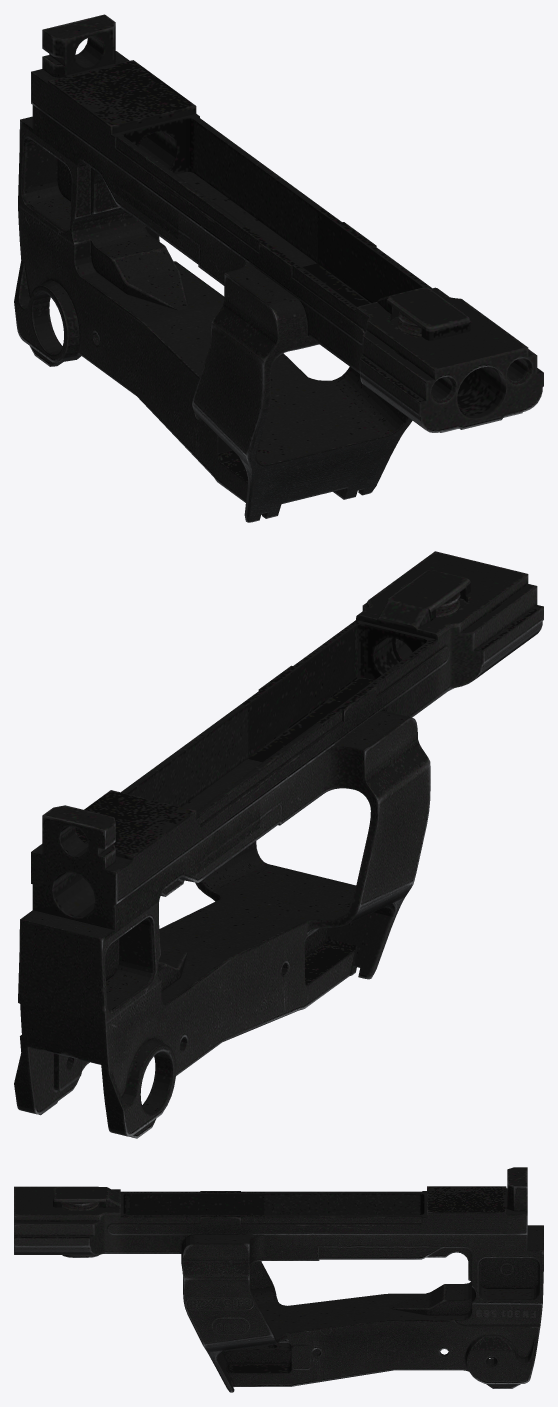
The picture shows the model from 3 angles, top to bottom: view 1: azimuth 30°, elevation 25°; view 2: azimuth 150°, elevation 25°; view 3: azimuth 270°, elevation 25°; orthographic projection. The views are drawn at different scales.
Parts seen in each view (by area): view 1: TW_5cf7acfcd7f00c1084477cf2_PZ_Import; view 2: TW_5cf7acfcd7f00c1084477cf2_PZ_Import; view 3: TW_5cf7acfcd7f00c1084477cf2_PZ_Import.
Boxes of the visible parts, x1,y1,x2,y2 form: TW_5cf7acfcd7f00c1084477cf2_PZ_Import: (14, 14, 543, 522); TW_5cf7acfcd7f00c1084477cf2_PZ_Import: (14, 551, 543, 1138); TW_5cf7acfcd7f00c1084477cf2_PZ_Import: (14, 1167, 543, 1392).
Size of the model in its own units: 0.0341 by 0.1484 by 0.0607.
Materials: 1 (1 with a texture image).
